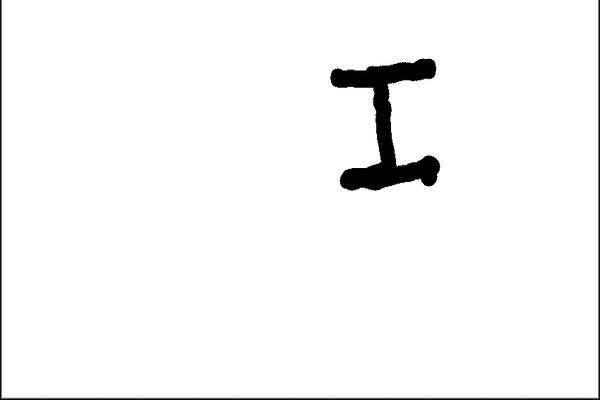i: (321, 53, 443, 188)
